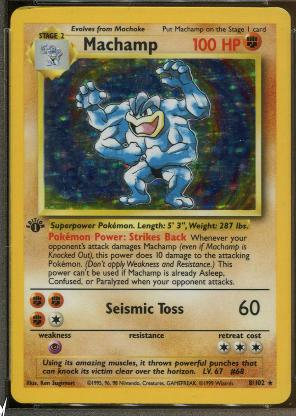Card: (6, 4, 294, 410)
